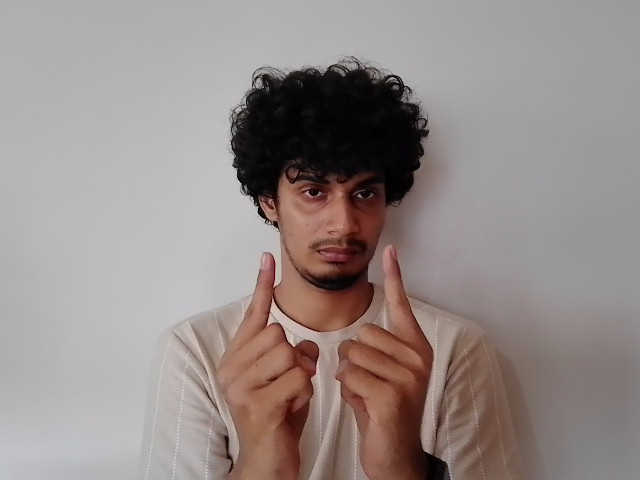play: (219, 248, 438, 457)
